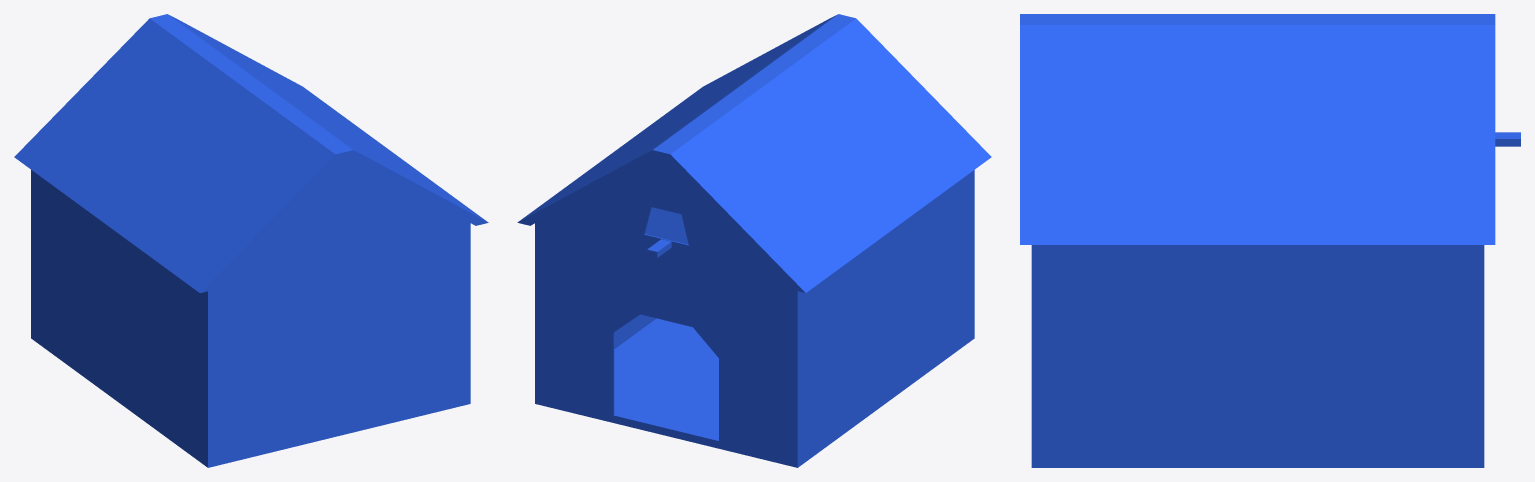
File: Almacen 2.FBX
3 renders of one model, left to right at view 1: azimuth 30°, elevation 25°; view 2: azimuth 150°, elevation 25°; view 3: azimuth 270°, elevation 25°, orthographic. The views are drawn at different scales.
Parts seen in each view (by area): view 1: Almacen 2; view 2: Almacen 2; view 3: Almacen 2.
Boxes of the visible parts, bbox=[...] form: Almacen 2: bbox=[14, 14, 488, 467]; Almacen 2: bbox=[517, 14, 991, 467]; Almacen 2: bbox=[1020, 14, 1520, 467].
Size of the model in its own units: 122 by 116 by 144.
